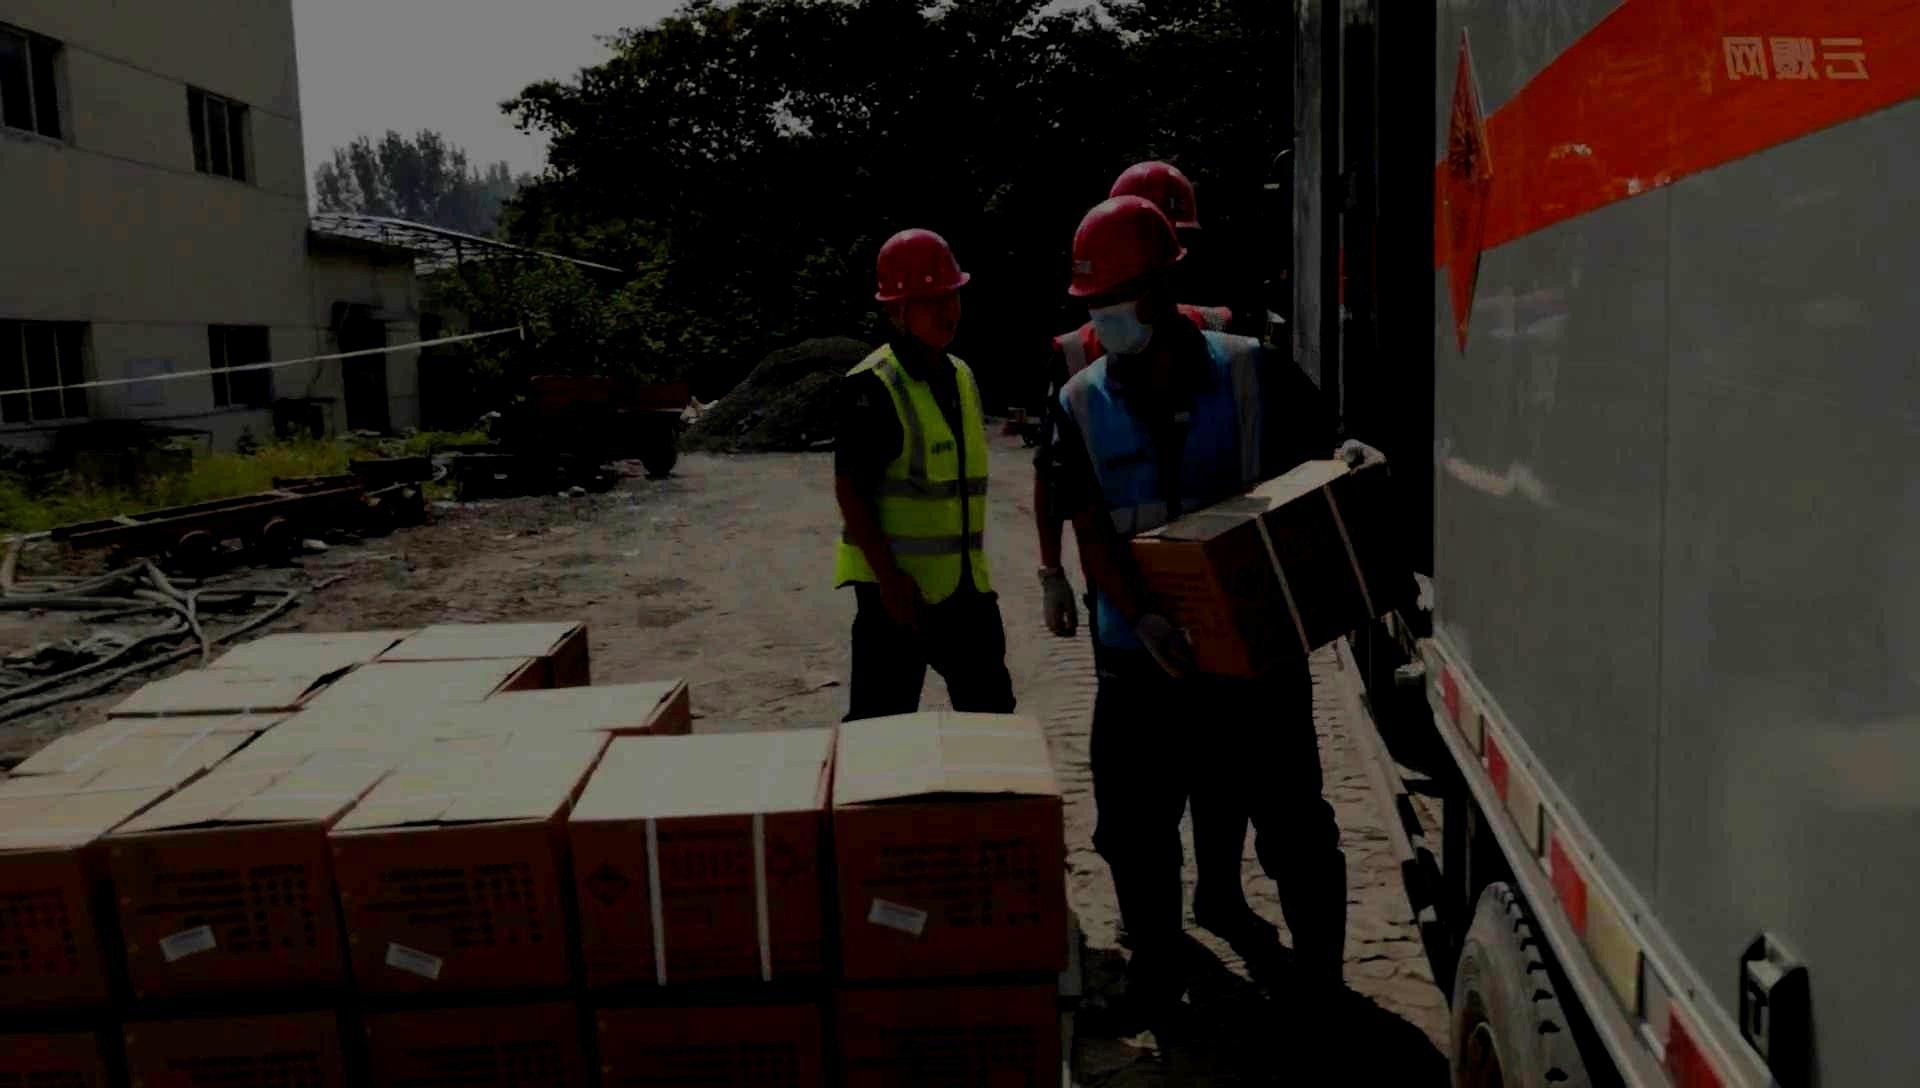helmet: (1068, 194, 1189, 356), (876, 228, 972, 351), (1109, 161, 1203, 284)
